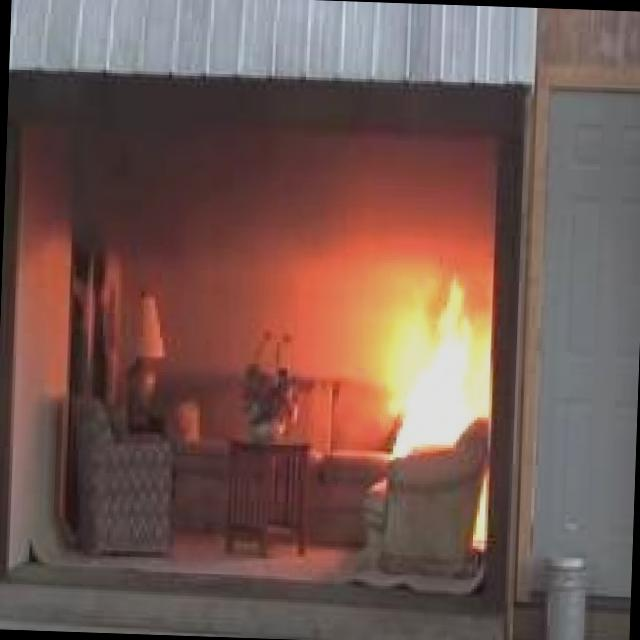fire: (357, 268, 500, 456)
